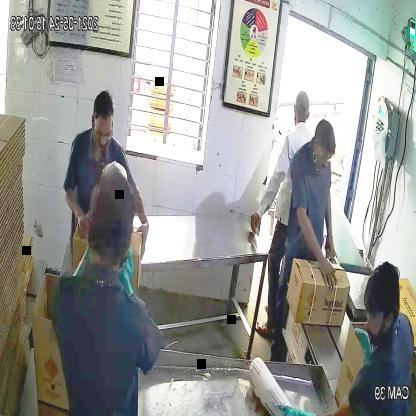goggles: (91, 122, 116, 146)
